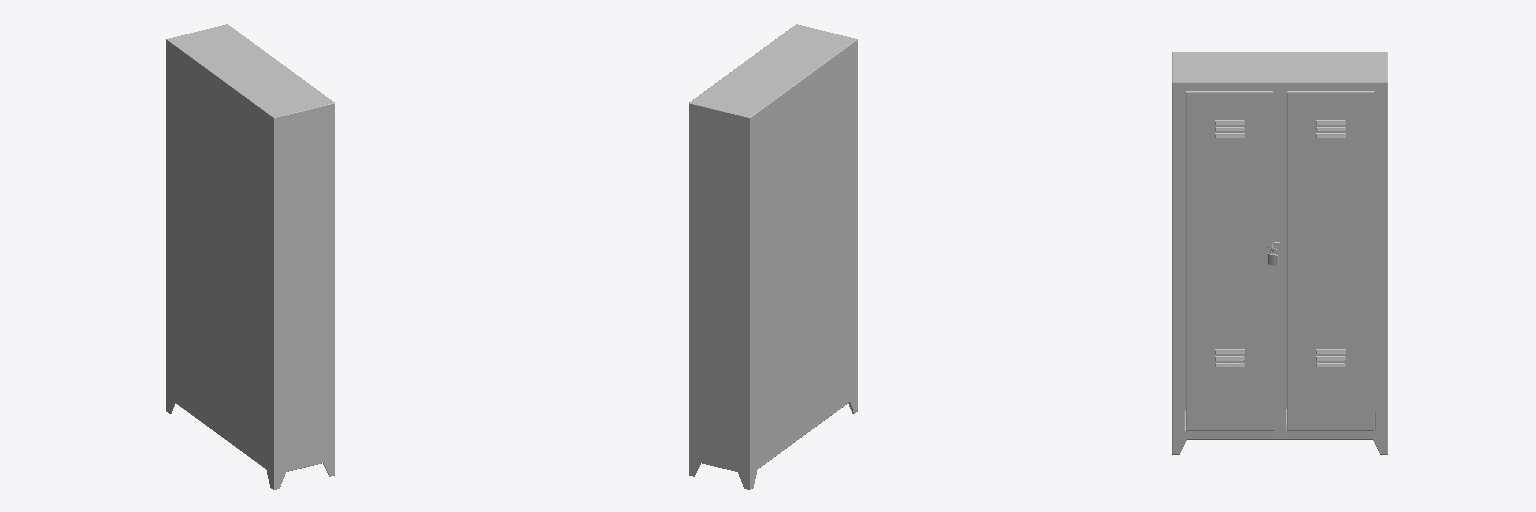
The model's file is Locker.obj.
The picture shows the model from 3 angles: view 1: azimuth 30°, elevation 25°; view 2: azimuth 150°, elevation 25°; view 3: azimuth 270°, elevation 25°; orthographic projection.
Parts seen in each view (by area): view 1: cadena_locker_body; view 2: cadena_locker_body; view 3: door2, door1, cadena_locker_body.
Boxes of the visible parts, box(x1,y1,x2,y2) form: cadena_locker_body: box(166, 24, 334, 489); cadena_locker_body: box(689, 24, 857, 489); door2: box(1287, 91, 1374, 430); door1: box(1186, 91, 1273, 430); cadena_locker_body: box(1172, 52, 1387, 454).
Bounding box in the file's own units: 75.95 × 375 × 197.